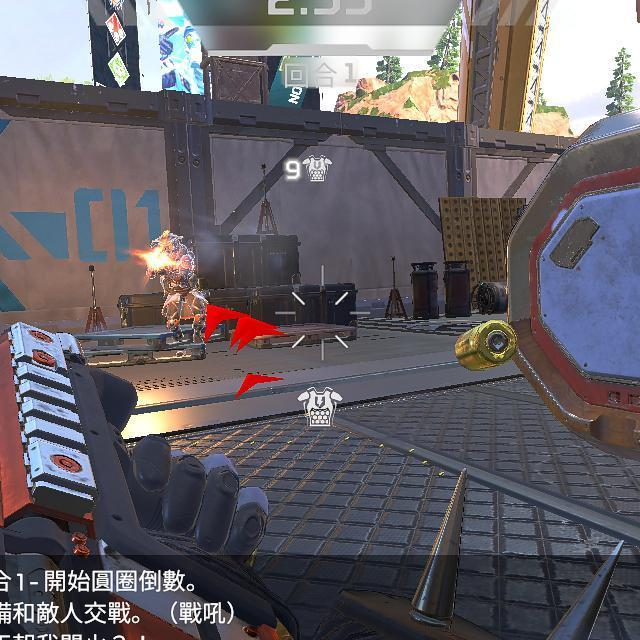avatar: (144, 230, 209, 343)
